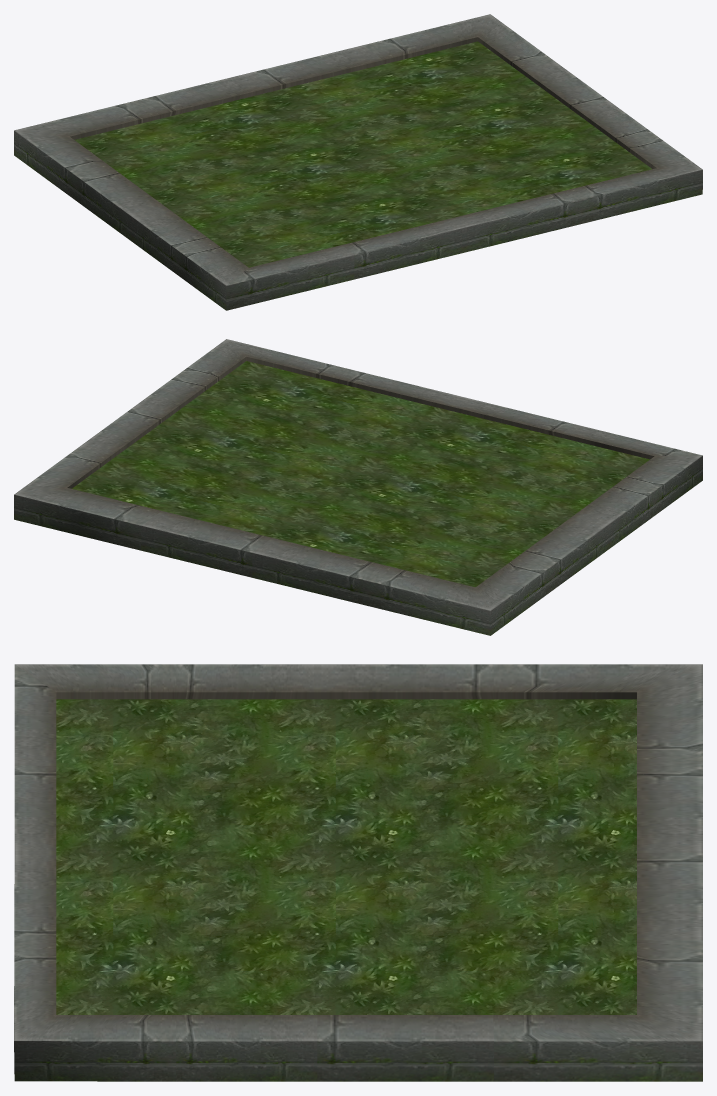
The model's file is zc_suzhou_huatan02.FBX.
3 views of the same model, one above another, from view 1: azimuth 30°, elevation 25°; view 2: azimuth 150°, elevation 25°; view 3: azimuth 270°, elevation 25° (orthographic). The views are drawn at different scales.
Visible parts, largest first — view 1: zc_suzhou_huatan02; view 2: zc_suzhou_huatan02; view 3: zc_suzhou_huatan02.
Boxes of the visible parts, box(x1,y1,x2,y2) form: zc_suzhou_huatan02: box(14, 14, 702, 310); zc_suzhou_huatan02: box(14, 339, 702, 635); zc_suzhou_huatan02: box(14, 664, 702, 1081).
Bounding box in the file's own units: 1234 × 61.94 × 953.
Materials: 2 (2 with a texture image).
